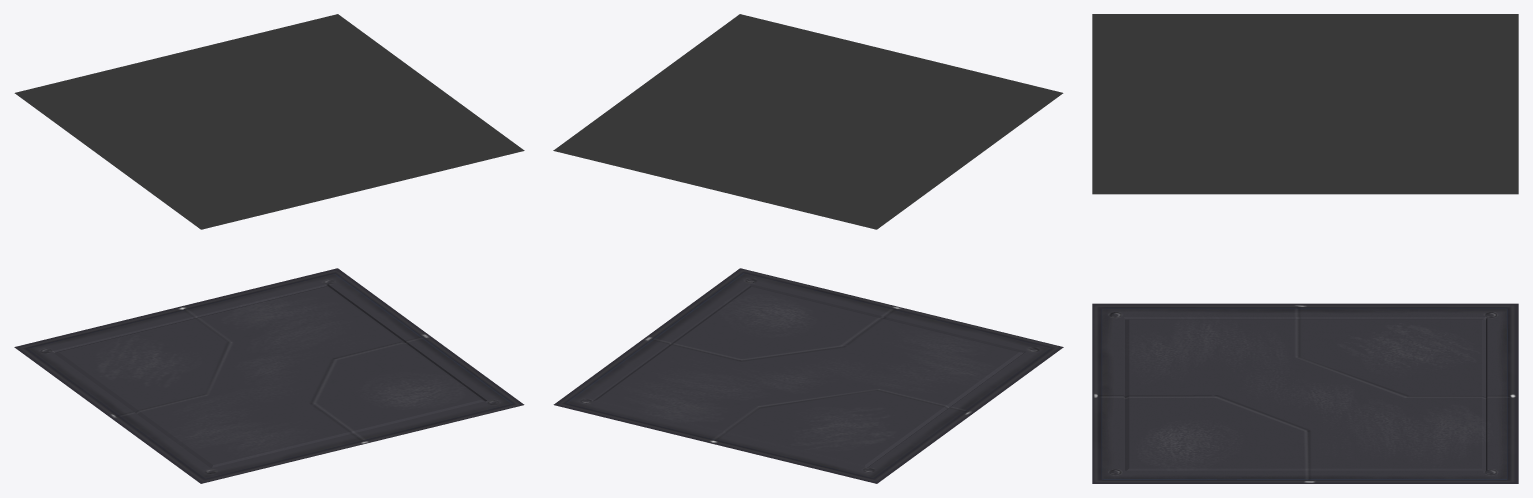
Rendered from chamberOpen.fbx.
The picture shows the model from 3 angles, left to right: view 1: azimuth 30°, elevation 25°; view 2: azimuth 150°, elevation 25°; view 3: azimuth 270°, elevation 25°; orthographic projection. The views are drawn at different scales.
Visible parts, largest first — view 1: int_entrance.001, int_entrance.000; view 2: int_entrance.001, int_entrance.000; view 3: int_entrance.001, int_entrance.000.
Part boxes in pixels (x1=…): int_entrance.001: x1=14, y1=14, x2=524, y2=229; int_entrance.000: x1=14, y1=268, x2=524, y2=483; int_entrance.001: x1=553, y1=14, x2=1063, y2=229; int_entrance.000: x1=553, y1=268, x2=1063, y2=483; int_entrance.001: x1=1092, y1=14, x2=1518, y2=194; int_entrance.000: x1=1092, y1=303, x2=1518, y2=483.
Bounding box in the file's own units: 4 × 3.02 × 4.
